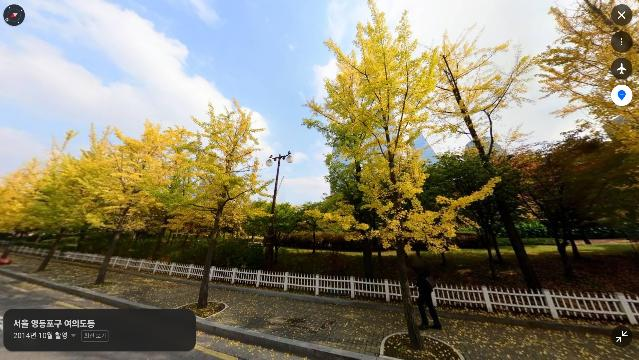ginkgo: (302, 0, 502, 350), (418, 24, 544, 292), (140, 96, 273, 310), (532, 0, 639, 260), (56, 119, 202, 286), (0, 129, 112, 274)
